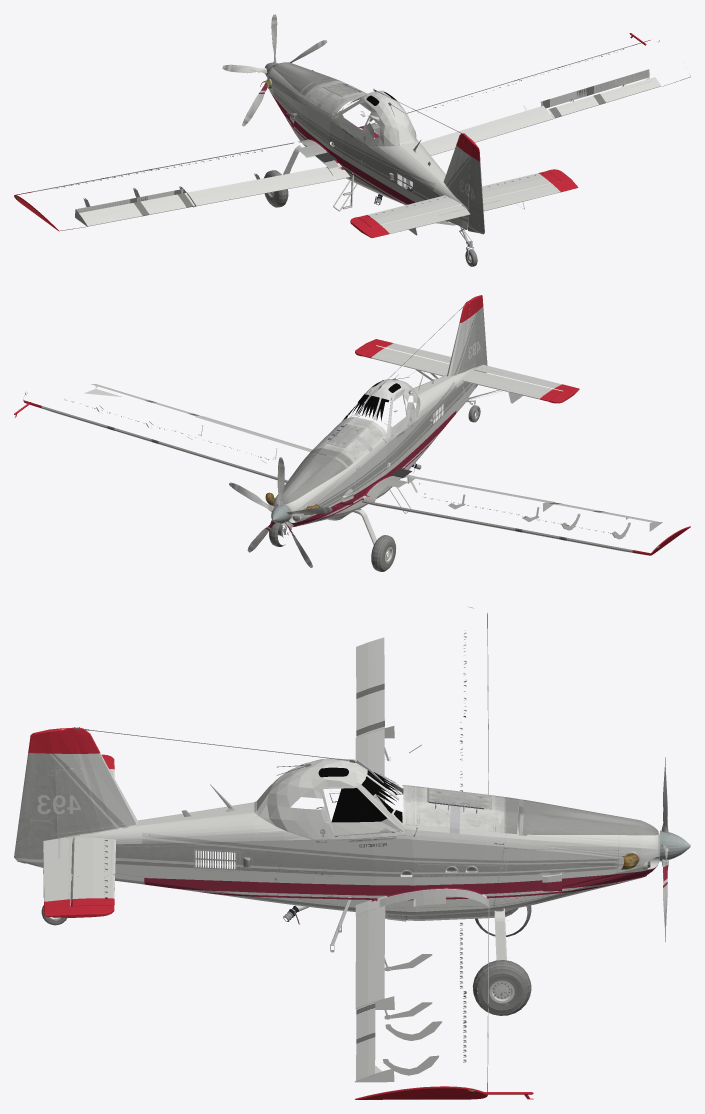
Rendered from exterior.glb.
3 views of the same model, one above another, from view 1: azimuth 30°, elevation 25°; view 2: azimuth 150°, elevation 25°; view 3: azimuth 270°, elevation 25° (orthographic). The views are drawn at different scales.
Visible parts, largest first — view 1: exterior; view 2: exterior; view 3: exterior.
Boxes of the visible parts, x1=… form: exterior: x1=14, y1=14, x2=690, y2=266; exterior: x1=14, y1=295, x2=690, y2=571; exterior: x1=14, y1=607, x2=690, y2=1099.
Bounding box in the file's own units: 18.06 × 4.29 × 10.61.
Materials: 21 (9 with a texture image).
